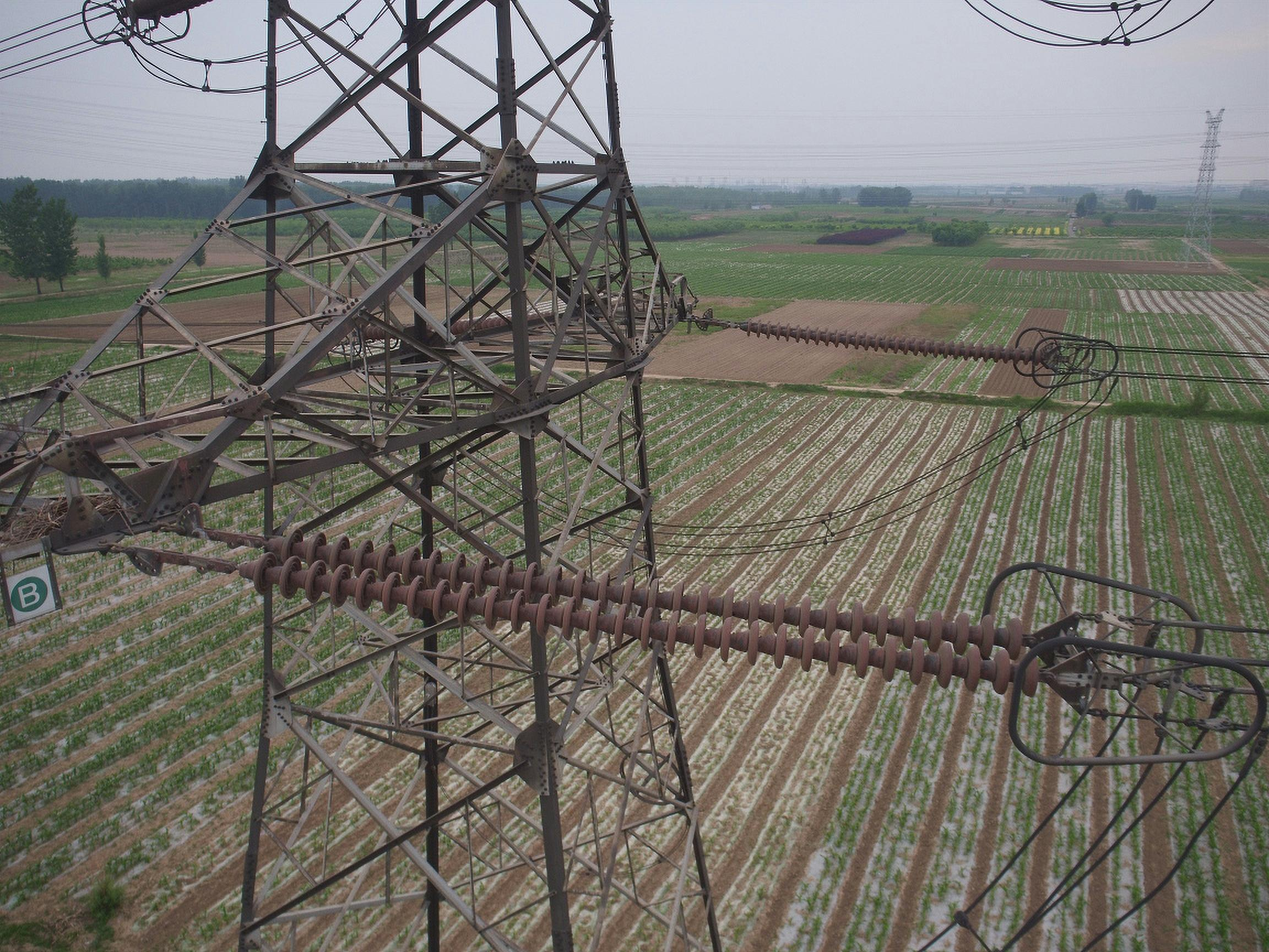insulator: (250, 526, 1046, 701), (740, 316, 1044, 369), (364, 308, 551, 343)
